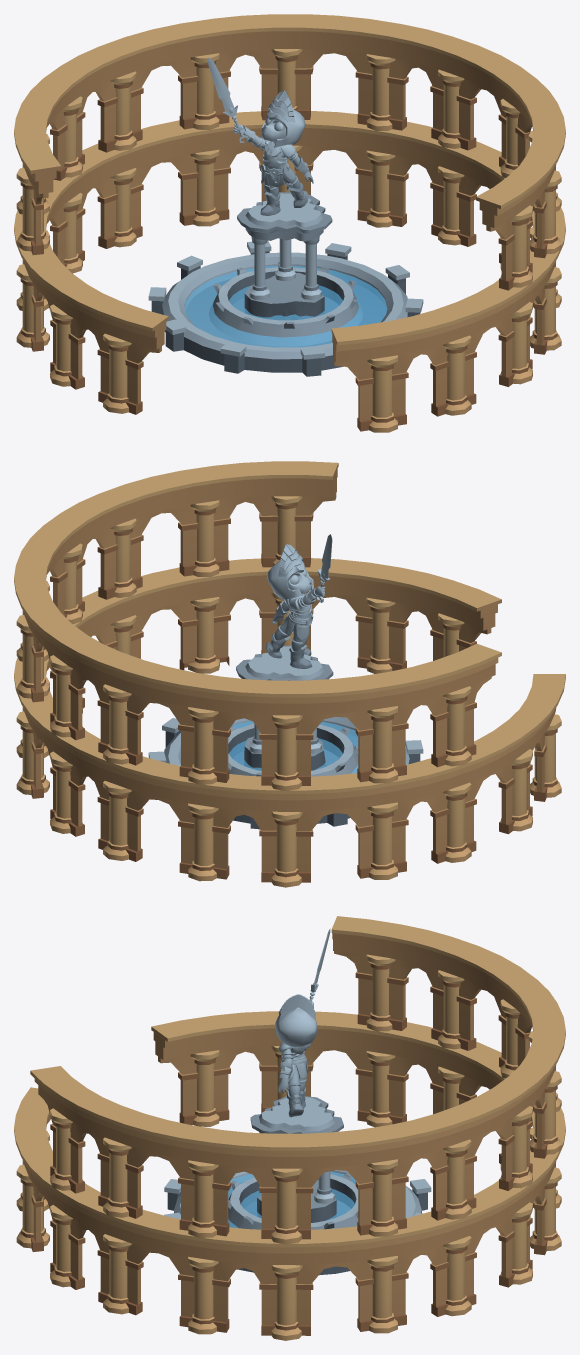
The model's file is colosseum.fbx.
The picture shows the model from 3 angles, top to bottom: view 1: azimuth 30°, elevation 25°; view 2: azimuth 150°, elevation 25°; view 3: azimuth 270°, elevation 25°; orthographic projection.
Parts seen in each view (by area): view 1: colosseum; view 2: colosseum; view 3: colosseum.
Part boxes in pixels (x1,y1,x2,y2): colosseum: (14,14,565,432); colosseum: (14,461,565,887); colosseum: (14,916,565,1340).
Size of the model in its own units: 70.88 by 37.64 by 70.69.
